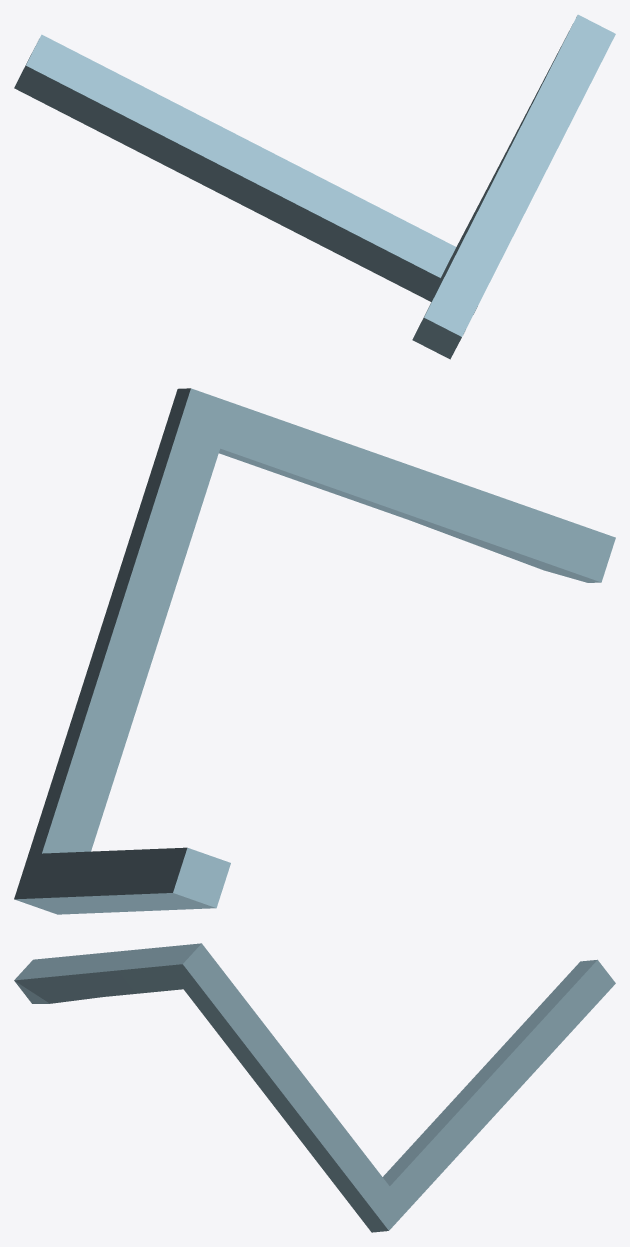
Rendered from Triangle.gltf.
3 renders of one model, top to bottom at view 1: azimuth 30°, elevation 25°; view 2: azimuth 150°, elevation 25°; view 3: azimuth 270°, elevation 25°, orthographic. The views are drawn at different scales.
Parts seen in each view (by area): view 1: Box001; view 2: Box001; view 3: Box001.
Boxes of the visible parts, x1=… form: Box001: x1=14, y1=14, x2=615, y2=359; Box001: x1=14, y1=388, x2=615, y2=914; Box001: x1=14, y1=943, x2=615, y2=1232.
Size of the model in its own units: 4.12 by 4.72 by 8.96.
